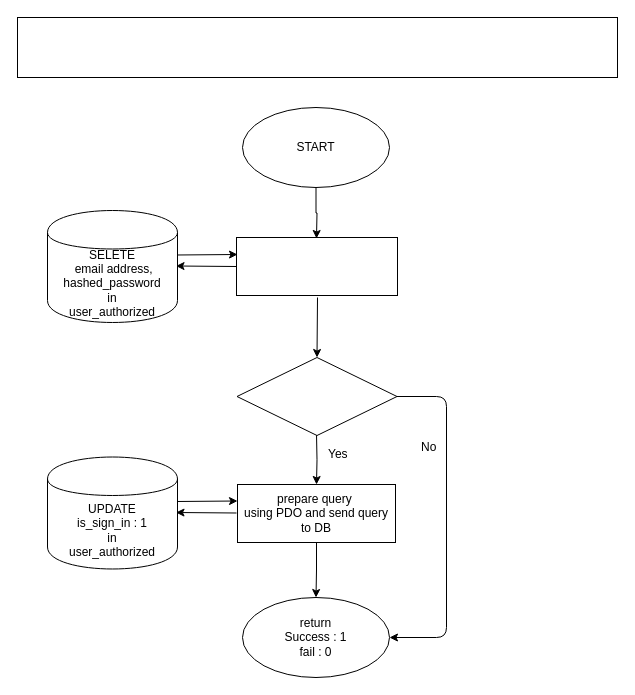
Some shapes in this 635 by 695 pixel diagram are drawn without their labels. The shapes that lost their labels are listed below. From the top down, each one's box as (x1, y1, x2, y2) in pixels, then its label:
(16, 16, 618, 78): Sign-in flowchart in server part
(236, 236, 398, 296): Decode json file and send data to DB
(236, 356, 397, 436): Is password correct?
